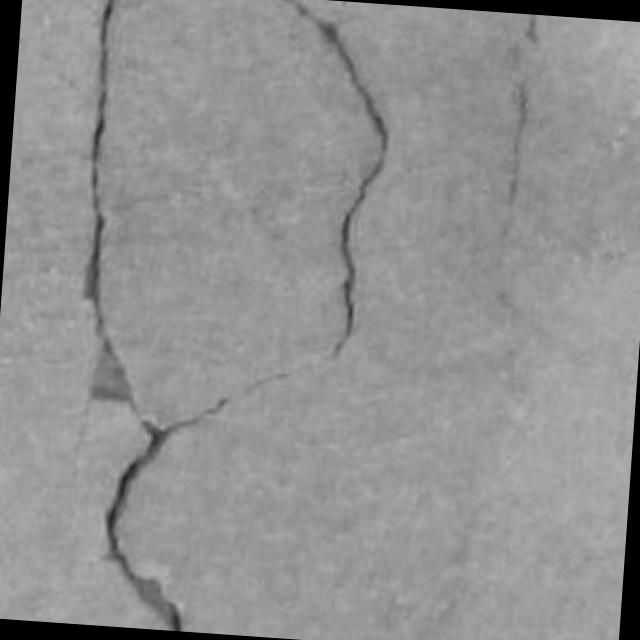crack: (288, 0, 390, 355), (86, 0, 139, 415), (84, 0, 135, 409), (106, 422, 182, 631), (84, 0, 115, 315), (502, 14, 538, 244), (508, 74, 530, 210), (508, 79, 529, 208), (526, 14, 538, 43)
